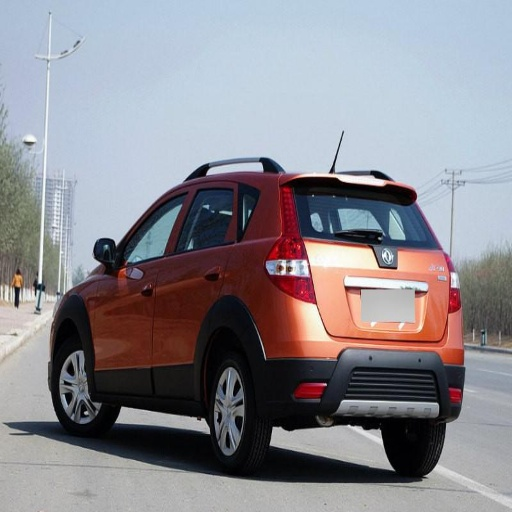back_bumper: (257, 293, 463, 416)
back_glass: (298, 181, 435, 246)
back_left_door: (153, 178, 240, 394)
tailgate: (303, 235, 436, 342)
trunk: (399, 249, 447, 343)
